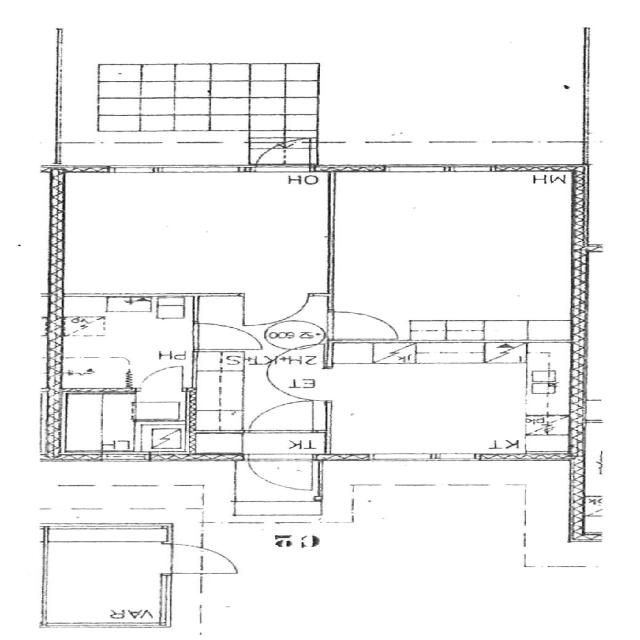door: (260, 349, 330, 398), (246, 452, 321, 497), (238, 291, 311, 328), (327, 307, 404, 342), (245, 400, 324, 433), (185, 322, 262, 352), (179, 545, 246, 577), (135, 364, 192, 390)
window: (89, 161, 249, 179)
zone: (186, 462, 577, 640), (326, 169, 577, 342), (50, 170, 333, 296), (320, 338, 574, 460), (54, 293, 195, 392), (41, 531, 173, 628), (56, 389, 156, 455), (260, 348, 332, 400)
